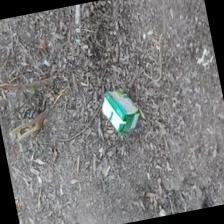Kertas: (103, 90, 136, 129)
